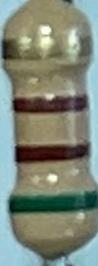Brown: (10, 92, 90, 114), (16, 141, 91, 163)
Green: (8, 188, 97, 213)
Side-Silver: (4, 32, 92, 59)
